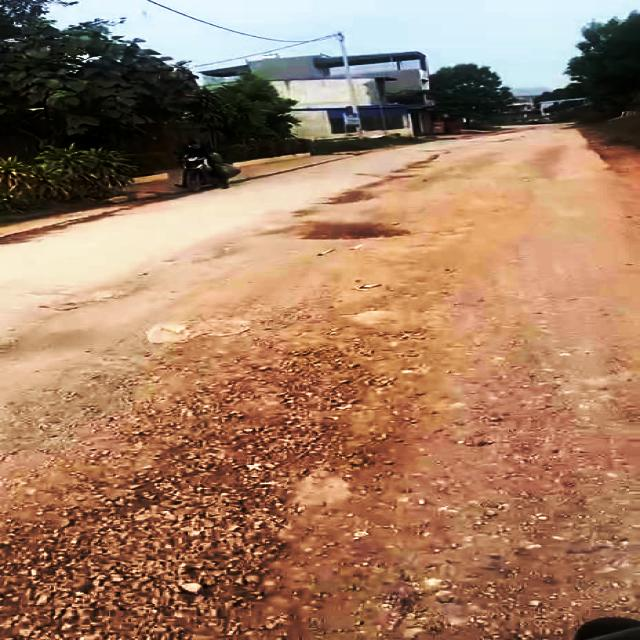pothole: (48, 278, 152, 315), (276, 222, 411, 241)
